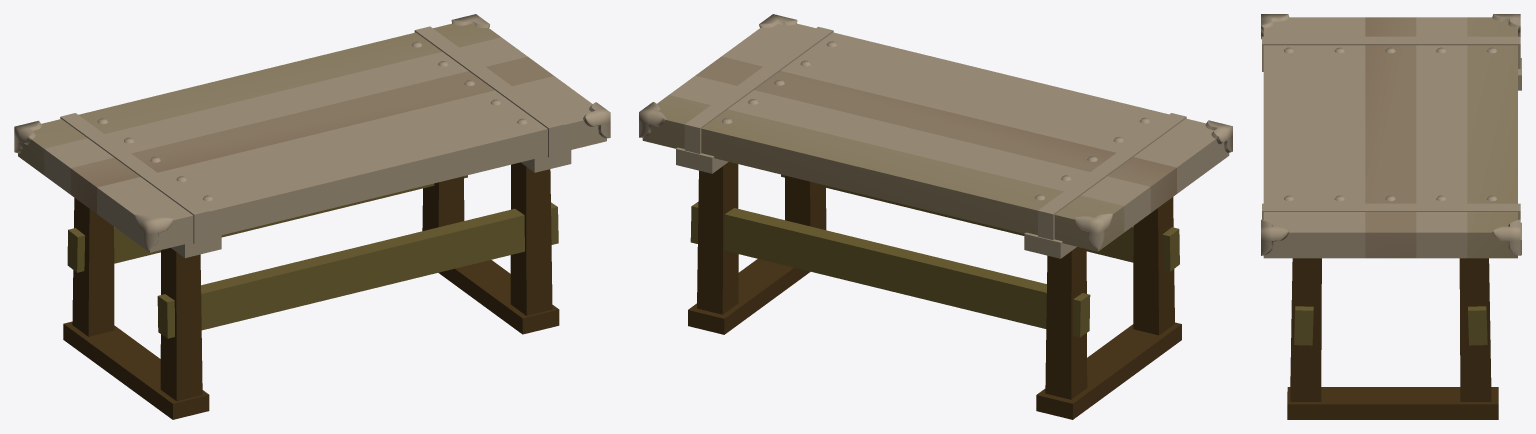
File: Workbench.gltf
3 renders of one model, left to right at view 1: azimuth 30°, elevation 25°; view 2: azimuth 150°, elevation 25°; view 3: azimuth 270°, elevation 25°, orthographic. The views are drawn at different scales.
Visible parts, largest first — view 1: Workbench; view 2: Workbench; view 3: Workbench.
Boxes of the visible parts, box(x1,y1,x2,y2) form: Workbench: box(14, 14, 610, 419); Workbench: box(639, 14, 1232, 419); Workbench: box(1261, 14, 1521, 419).
Size of the model in its own units: 2.02 by 0.8946 by 1.02.
